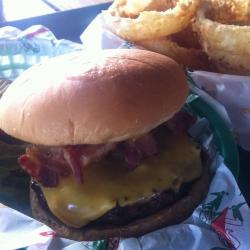burger: (1, 49, 219, 236)
fries: (111, 1, 250, 72)
